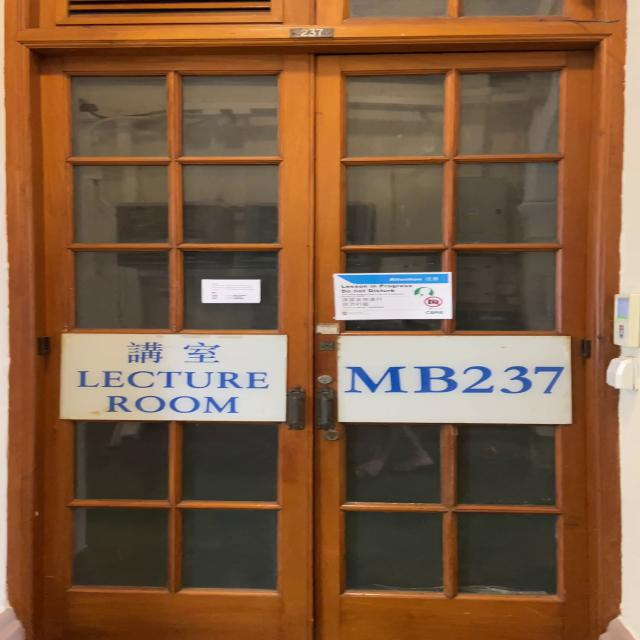room237: (289, 28, 333, 37)
room237Window: (339, 336, 572, 423)
